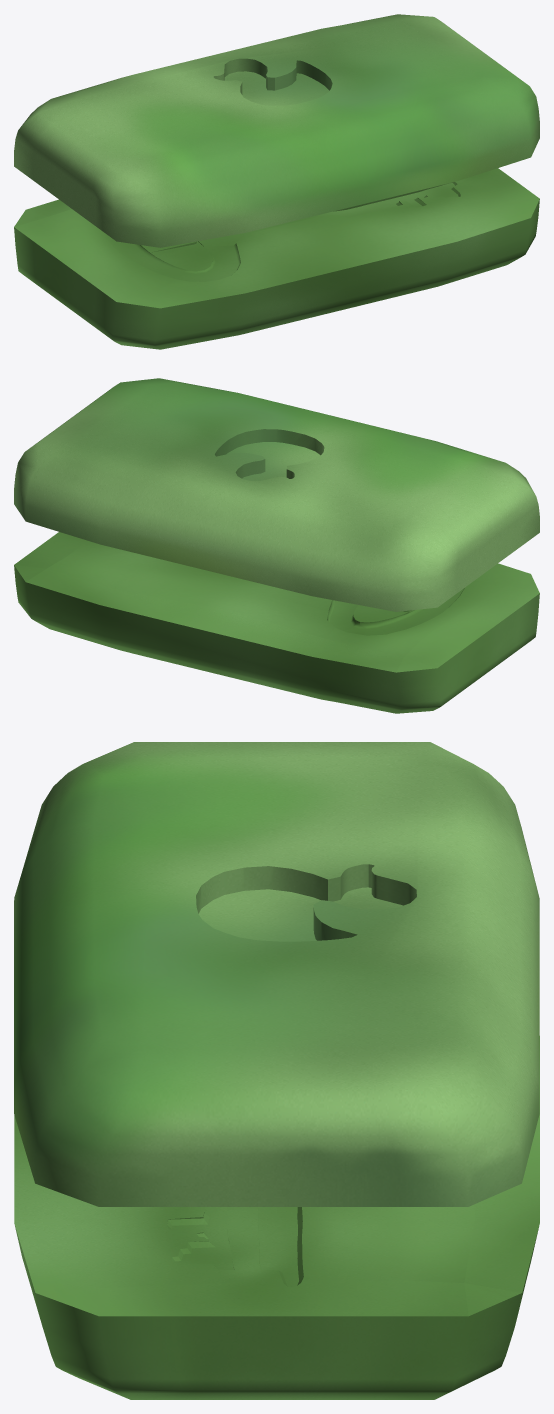
File: soap.fbx
3 renders of one model, top to bottom at view 1: azimuth 30°, elevation 25°; view 2: azimuth 150°, elevation 25°; view 3: azimuth 270°, elevation 25°, orthographic. The views are drawn at different scales.
Visible parts, largest first — view 1: soap_top, soap_bottom; view 2: soap_top, soap_bottom; view 3: soap_top, soap_bottom.
Boxes of the visible parts, box(x1,y1,x2,y2) form: soap_top: box(14, 14, 539, 247); soap_bottom: box(14, 168, 539, 349); soap_top: box(14, 378, 539, 611); soap_bottom: box(14, 532, 539, 713); soap_top: box(14, 742, 539, 1206); soap_bottom: box(14, 1036, 539, 1399).
Bounding box in the file's own units: 6.89 × 2.98 × 4.1.
Materials: 2 (2 with a texture image).
